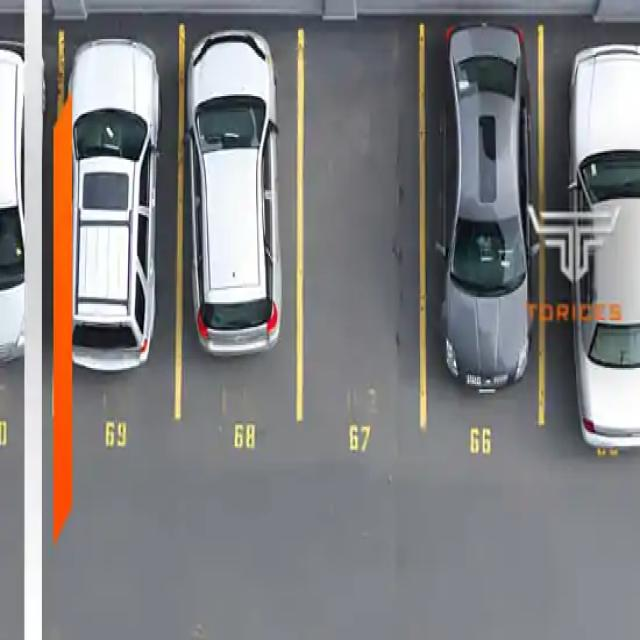libre: (307, 26, 418, 477), (430, 26, 536, 482)
ocupado: (186, 18, 300, 459), (63, 39, 168, 452), (547, 34, 640, 484), (0, 32, 29, 464)
